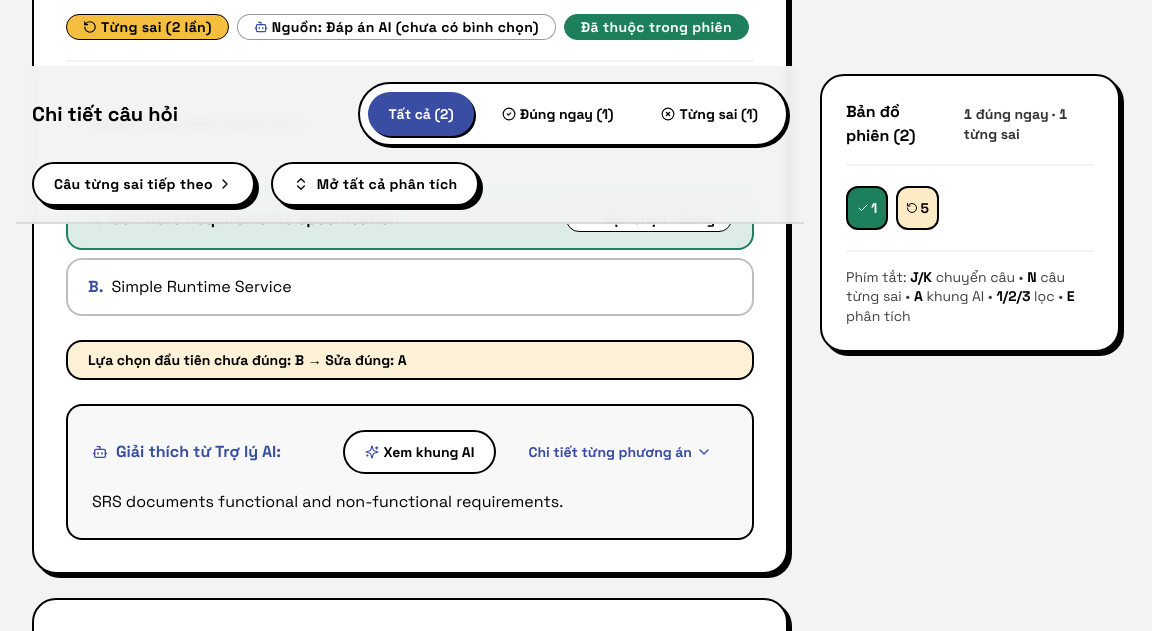
Test: CramReviewView Component & Cockpit Behavior › displays KPI summary, mistake badges, first-choice comparison, filters, keyboard shortcuts, and AI modal
(page scrolled)
expect the text "Từng sai (2 lần)" is shown: met, box [101,17,212,37]
expect the text "Lựa chọn đầu tiên chưa đúng: B → Sửa đúng: A" is shown: met, box [66,340,754,380]
# Filter via keyboard shortcut '3' (Từng sai)
Press 3
(page scrolled)
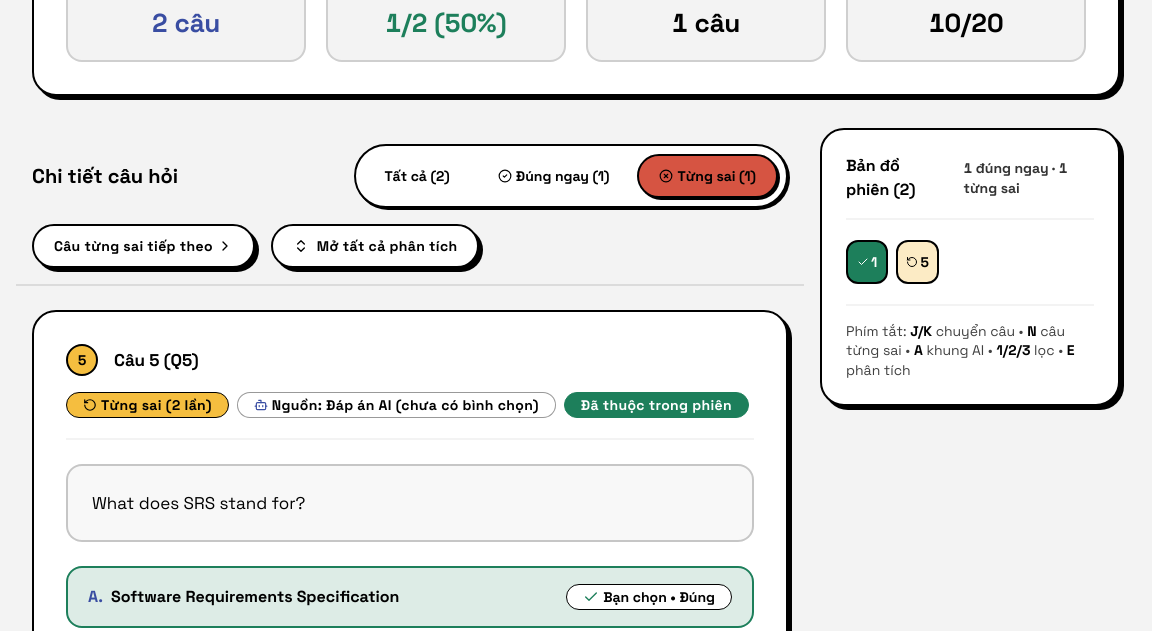
expect the text "What does SRS stand for?" is shown: met, box [92,492,305,514]
expect the heading "Câu 5 (Q5)" is shown: met, box [114,347,199,373]
# Shortcut 'e' expands breakdown and '1' restores all
Press e
(page scrolled)
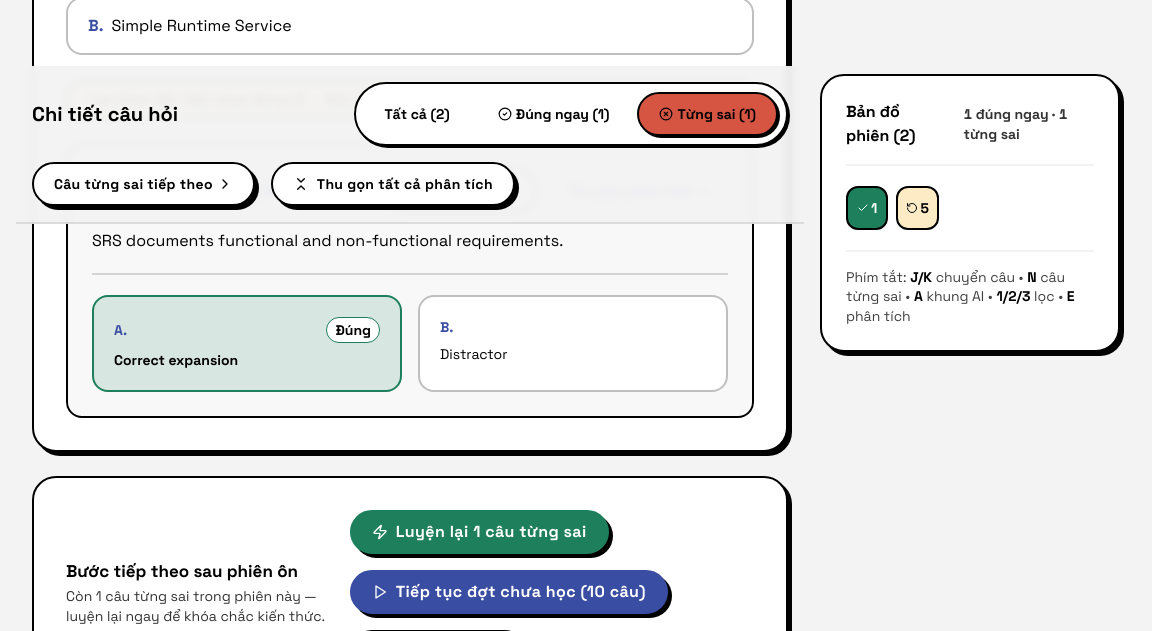
expect the text "Correct expansion" is shown: met, box [114,351,238,369]
Press 1
(page scrolled)
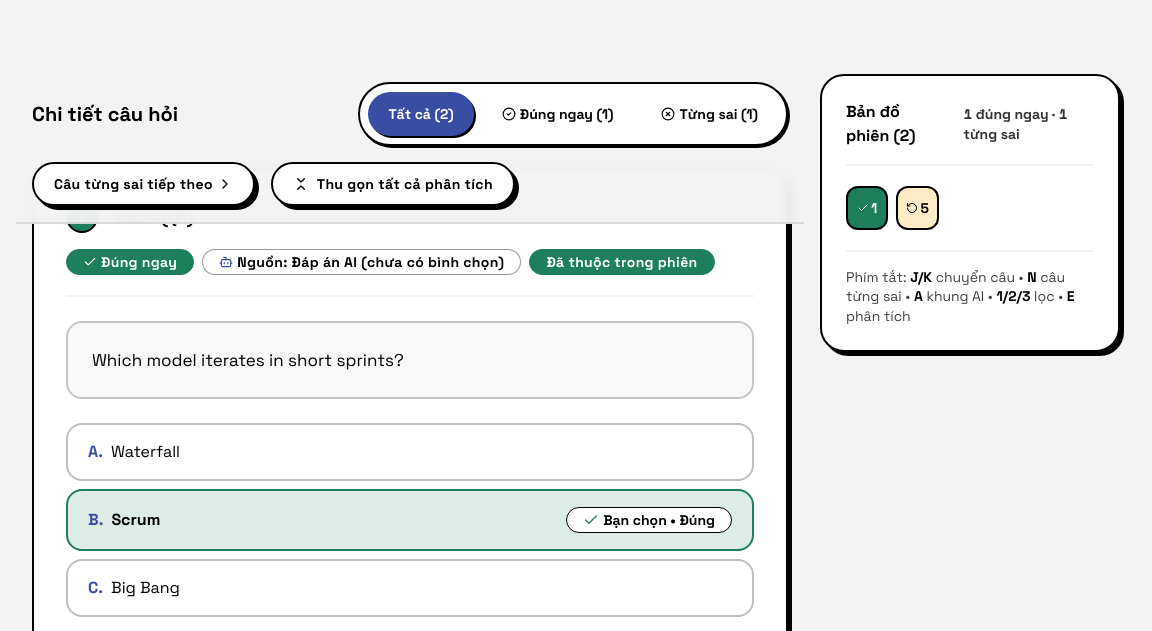
expect the text "Which model iterates in short sprints?" is shown: met, box [92,349,404,371]
# Map click from filtered-out state resets filter cleanly
Press 2
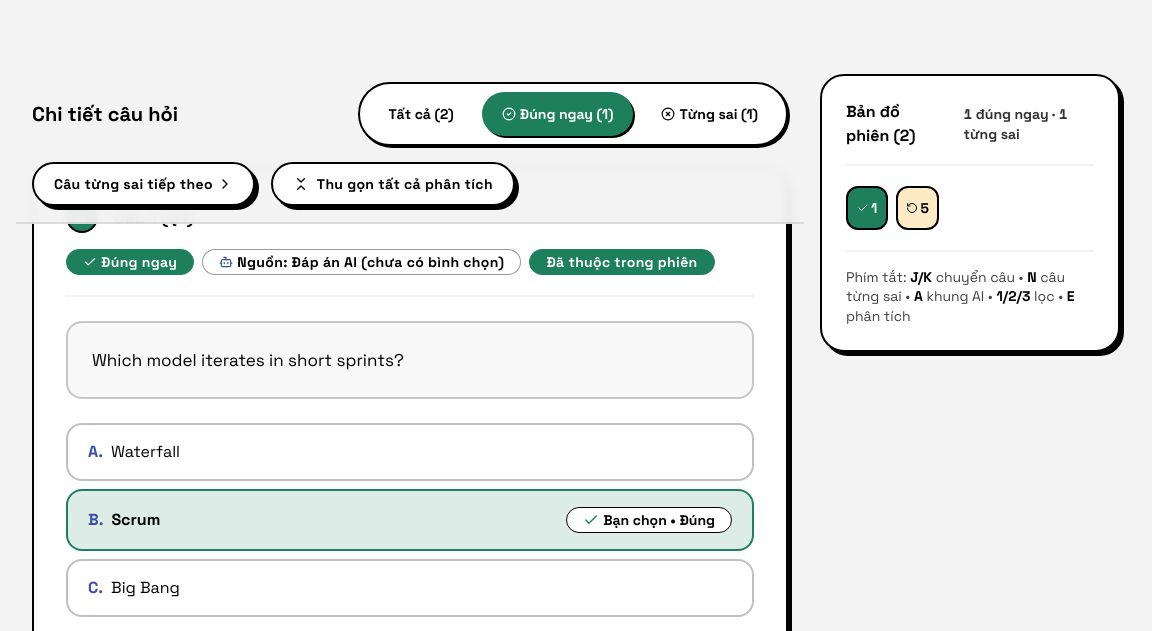
expect the text "What does SRS stand for?" is not shown: met
Click the button named "Câu 5: Từng sai" at (918, 208), box [896,186,939,230]
(page scrolled)
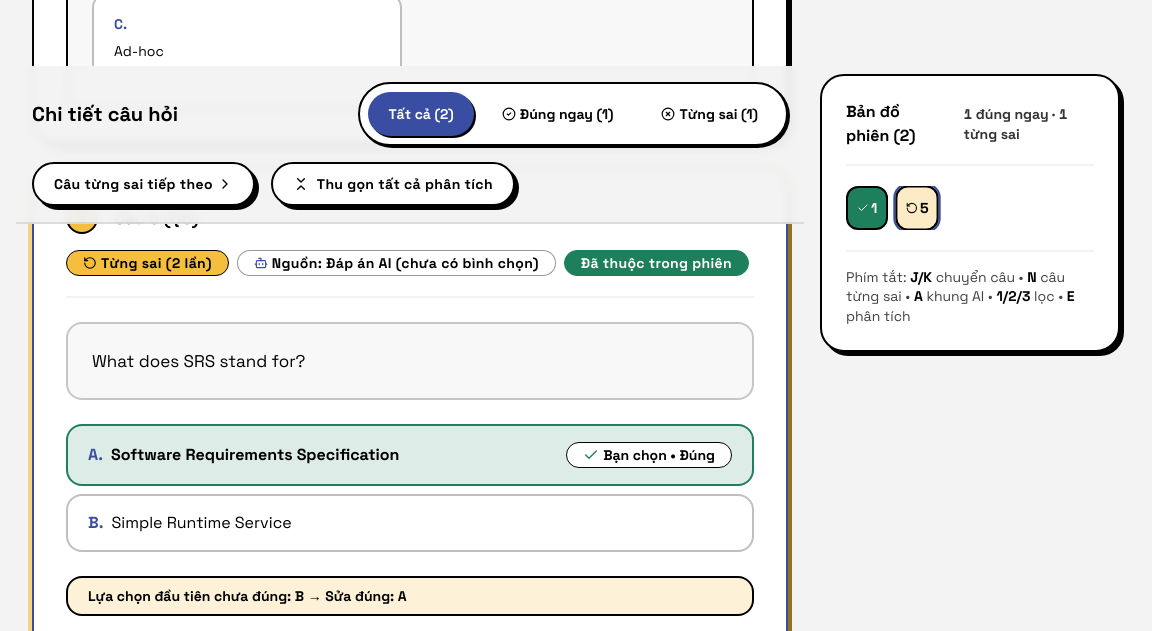
expect the text "What does SRS stand for?" is shown: met, box [92,350,305,372]
# Shortcut 'a' opens shared AiAnswerModal
Press a
(page scrolled)
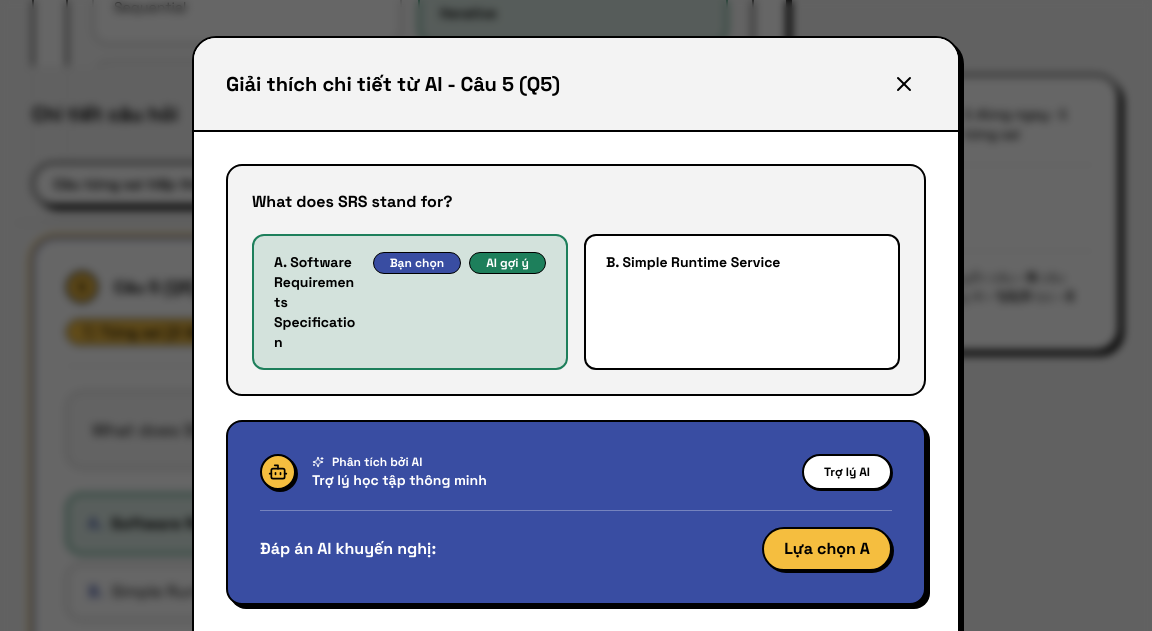
expect the heading "Giải thích chi tiết từ AI - Câu 5 (Q5)" is shown: met, box [226,70,560,98]
